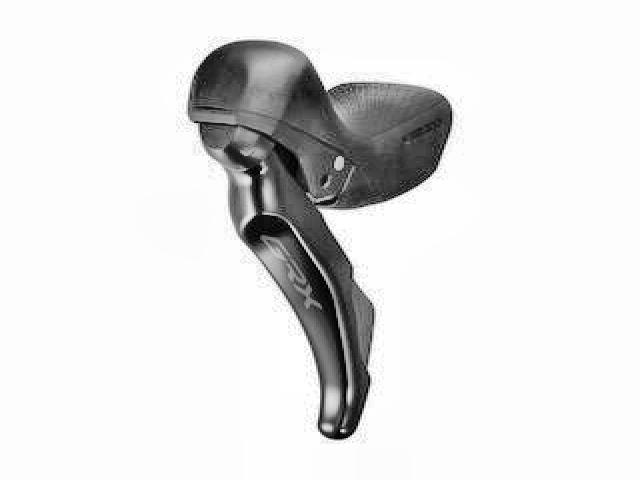sti_shifter: (192, 36, 452, 439)
